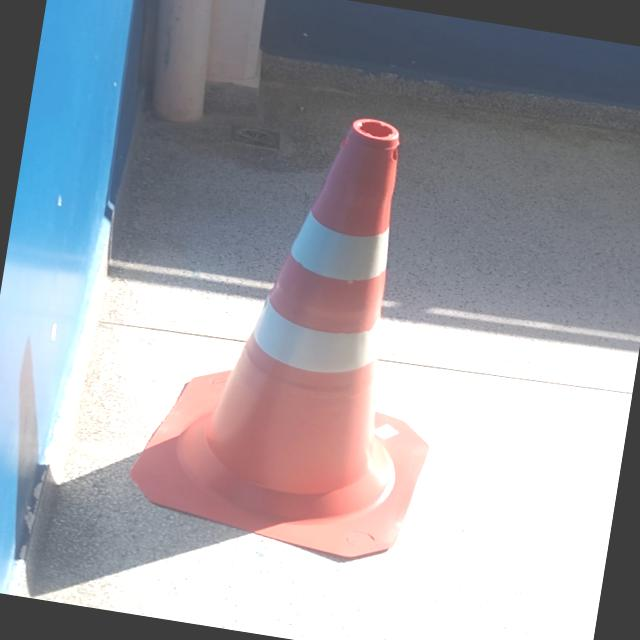cone: (114, 44, 526, 591)
